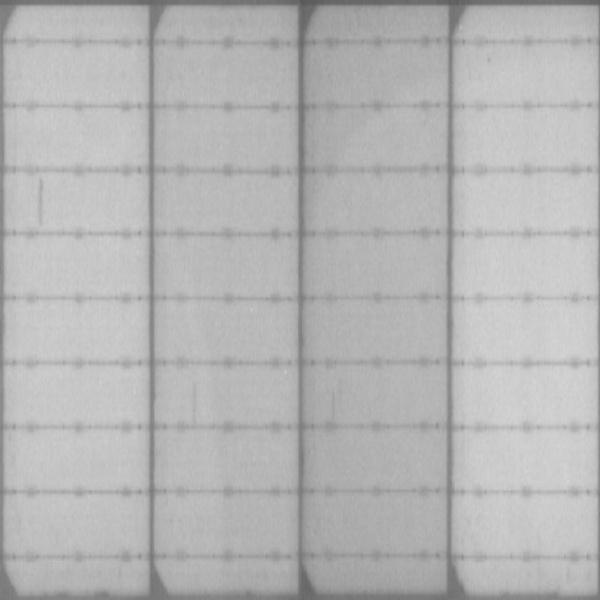scratch: (34, 174, 49, 224)
